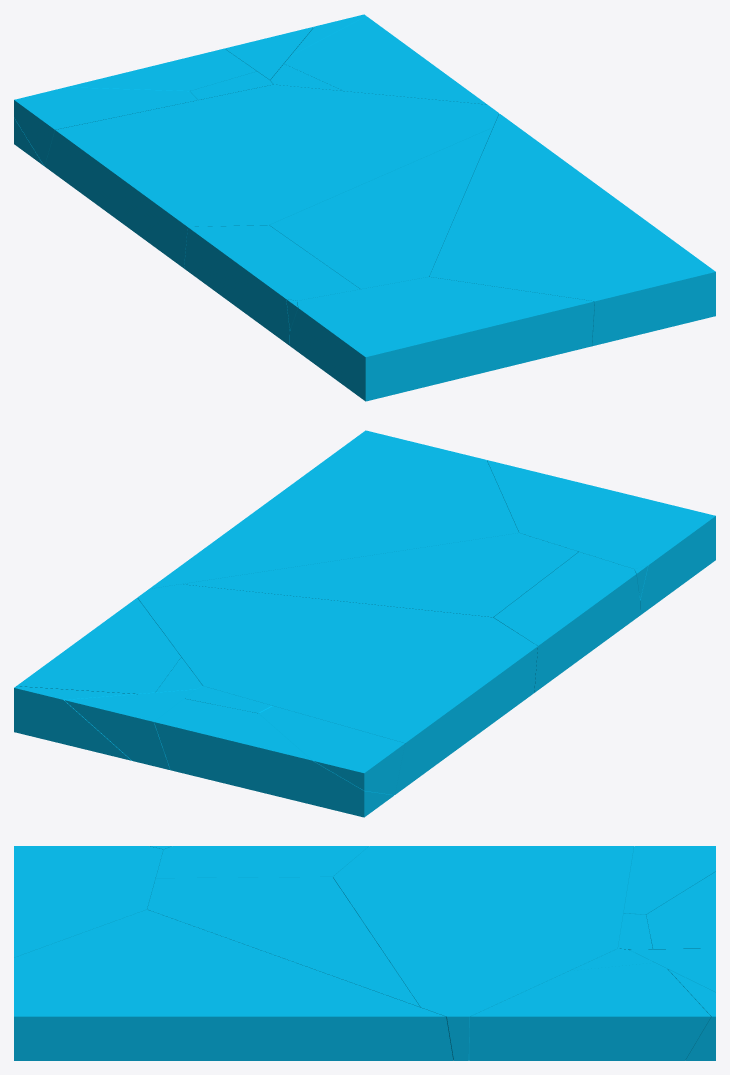
File: floor_d.fbx
The picture shows the model from 3 angles, top to bottom: view 1: azimuth 30°, elevation 25°; view 2: azimuth 150°, elevation 25°; view 3: azimuth 270°, elevation 25°; orthographic projection.
Visible parts, largest first — view 1: Floor_cell.007_cell, Floor_cell.009, Floor_cell.005, Floor_cell.007_cell.002, Floor_cell.007_cell.001, Floor_cell.010_cell.002, Floor_cell.006_cell.002, Floor_cell.006_cell.003, Floor_cell.011, Floor_cell.006_cell, Floor_cell.010_cell.003, Floor_cell.010_cell.001; view 2: Floor_cell.007_cell, Floor_cell.009, Floor_cell.007_cell.002, Floor_cell.005, Floor_cell.006_cell.003, Floor_cell.007_cell.001, Floor_cell.010_cell.002, Floor_cell.006_cell.002, Floor_cell.011, Floor_cell.010_cell.001, Floor_cell.006_cell, Floor_cell.010_cell.003; view 3: Floor_cell.009, Floor_cell.007_cell, Floor_cell.010_cell.002, Floor_cell.007_cell.002, Floor_cell.005, Floor_cell.007_cell.001, Floor_cell.006_cell.002, Floor_cell.006_cell.003, Floor_cell.011, Floor_cell.010_cell.001, Floor_cell.006_cell, Floor_cell.010_cell.003.
Part boxes in pixels (x1=…): Floor_cell.007_cell: x1=45, y1=84, x2=498, y2=268; Floor_cell.009: x1=429, y1=113, x2=715, y2=346; Floor_cell.005: x1=289, y1=277, x2=594, y2=401; Floor_cell.007_cell.002: x1=269, y1=127, x2=492, y2=289; Floor_cell.007_cell.001: x1=184, y1=225, x2=359, y2=345; Floor_cell.010_cell.002: x1=283, y1=16, x2=486, y2=104; Floor_cell.006_cell.002: x1=14, y1=87, x2=197, y2=166; Floor_cell.006_cell.003: x1=14, y1=48, x2=256, y2=165; Floor_cell.011: x1=224, y1=26, x2=313, y2=79; Floor_cell.006_cell: x1=190, y1=71, x2=273, y2=100; Floor_cell.010_cell.003: x1=270, y1=64, x2=342, y2=90; Floor_cell.010_cell.001: x1=288, y1=14, x2=365, y2=57; Floor_cell.007_cell: x1=137, y1=584, x2=537, y2=794; Floor_cell.009: x1=149, y1=430, x2=518, y2=588; Floor_cell.007_cell.002: x1=182, y1=533, x2=578, y2=617; Floor_cell.005: x1=487, y1=460, x2=715, y2=615; Floor_cell.006_cell.003: x1=154, y1=698, x2=394, y2=817; Floor_cell.007_cell.001: x1=493, y1=552, x2=639, y2=692; Floor_cell.010_cell.002: x1=16, y1=598, x2=180, y2=694; Floor_cell.006_cell.002: x1=259, y1=706, x2=404, y2=794; Floor_cell.011: x1=64, y1=689, x2=195, y2=770; Floor_cell.010_cell.001: x1=14, y1=686, x2=136, y2=760; Floor_cell.006_cell: x1=184, y1=686, x2=272, y2=713; Floor_cell.010_cell.003: x1=155, y1=657, x2=202, y2=692; Floor_cell.009: x1=14, y1=909, x2=453, y2=1060; Floor_cell.007_cell: x1=333, y1=846, x2=633, y2=1060; Floor_cell.010_cell.002: x1=469, y1=962, x2=710, y2=1060; Floor_cell.007_cell.002: x1=147, y1=877, x2=419, y2=1006; Floor_cell.005: x1=14, y1=846, x2=163, y2=957; Floor_cell.007_cell.001: x1=156, y1=846, x2=368, y2=878; Floor_cell.006_cell.002: x1=623, y1=846, x2=715, y2=914; Floor_cell.006_cell.003: x1=646, y1=871, x2=715, y2=949; Floor_cell.011: x1=629, y1=948, x2=715, y2=992; Floor_cell.010_cell.001: x1=667, y1=969, x2=715, y2=1060; Floor_cell.006_cell: x1=618, y1=913, x2=652, y2=949; Floor_cell.010_cell.003: x1=570, y1=948, x2=654, y2=970.
Size of the model in its own units: 230 by 27.82 by 400.
